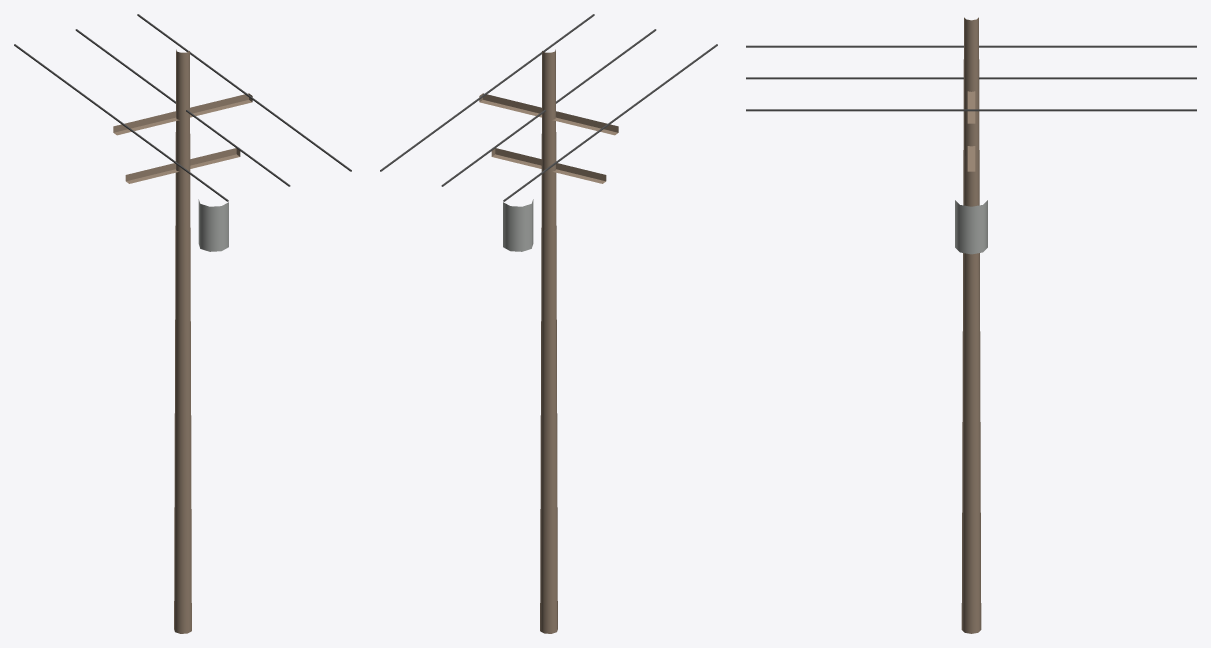
File: utility_pole.glb
3 renders of one model, left to right at view 1: azimuth 30°, elevation 25°; view 2: azimuth 150°, elevation 25°; view 3: azimuth 270°, elevation 25°, orthographic. The views are drawn at different scales.
Visible parts, largest first — view 1: utility_pole; view 2: utility_pole; view 3: utility_pole.
Boxes of the visible parts, box(x1,y1,x2,y2) form: utility_pole: box(14, 14, 351, 633); utility_pole: box(380, 14, 717, 633); utility_pole: box(746, 17, 1196, 633).
Size of the model in its own units: 2.2 by 9 by 6.
